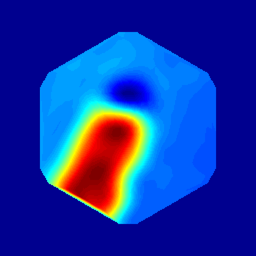ship: (104, 76, 153, 121)
wave: (61, 106, 144, 200)
